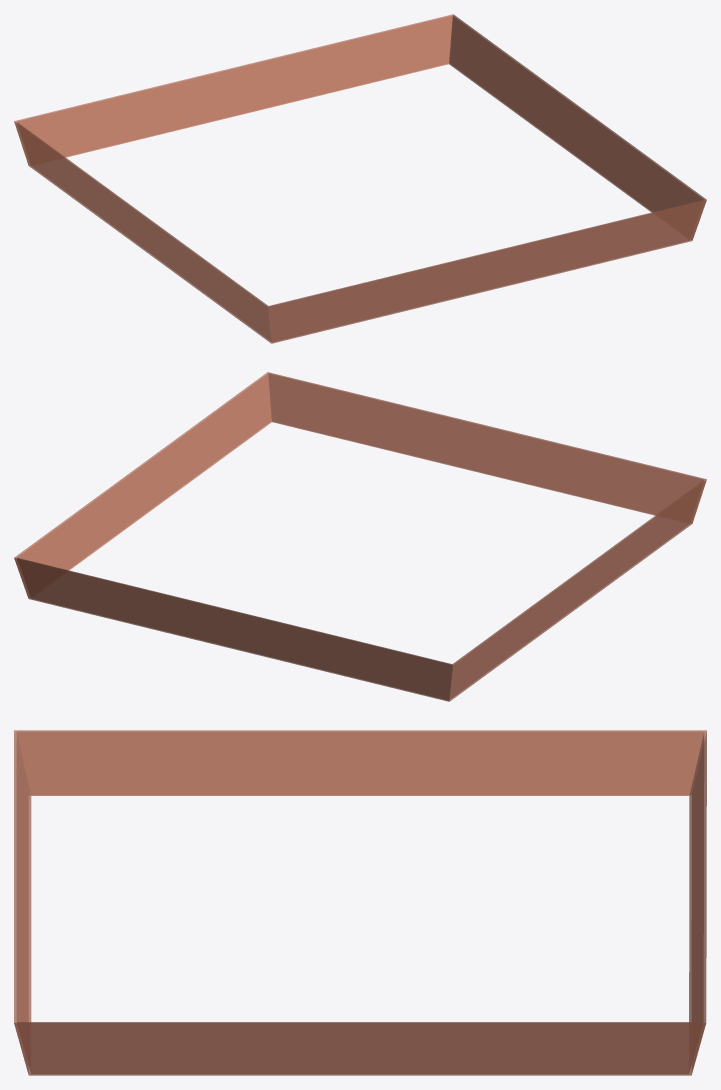
Rendered from ColorChange_01.fbx.
3 views of the same model, one above another, from view 1: azimuth 30°, elevation 25°; view 2: azimuth 150°, elevation 25°; view 3: azimuth 270°, elevation 25° (orthographic). The views are drawn at different scales.
Parts seen in each view (by area): view 1: pCube107, pCube108; view 2: pCube107, pCube108; view 3: pCube107, pCube108.
Boxes of the visible parts, left/top/right/bottom form: pCube107: left=14, top=14, right=706, bottom=343; pCube108: left=17, top=15, right=703, bottom=341; pCube107: left=14, top=372, right=706, bottom=701; pCube108: left=17, top=373, right=703, bottom=699; pCube107: left=14, top=730, right=706, bottom=1075; pCube108: left=16, top=731, right=704, bottom=1073.
Bounding box in the file's own units: 1.04 × 0.0978 × 1.05.
